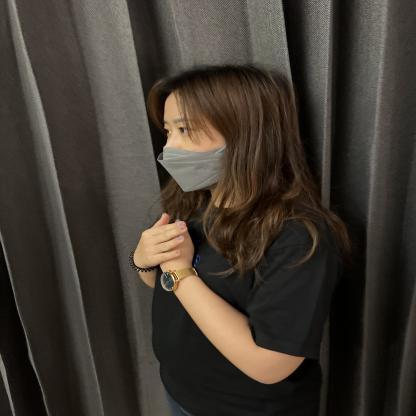Grieve: (78, 196, 252, 294)
